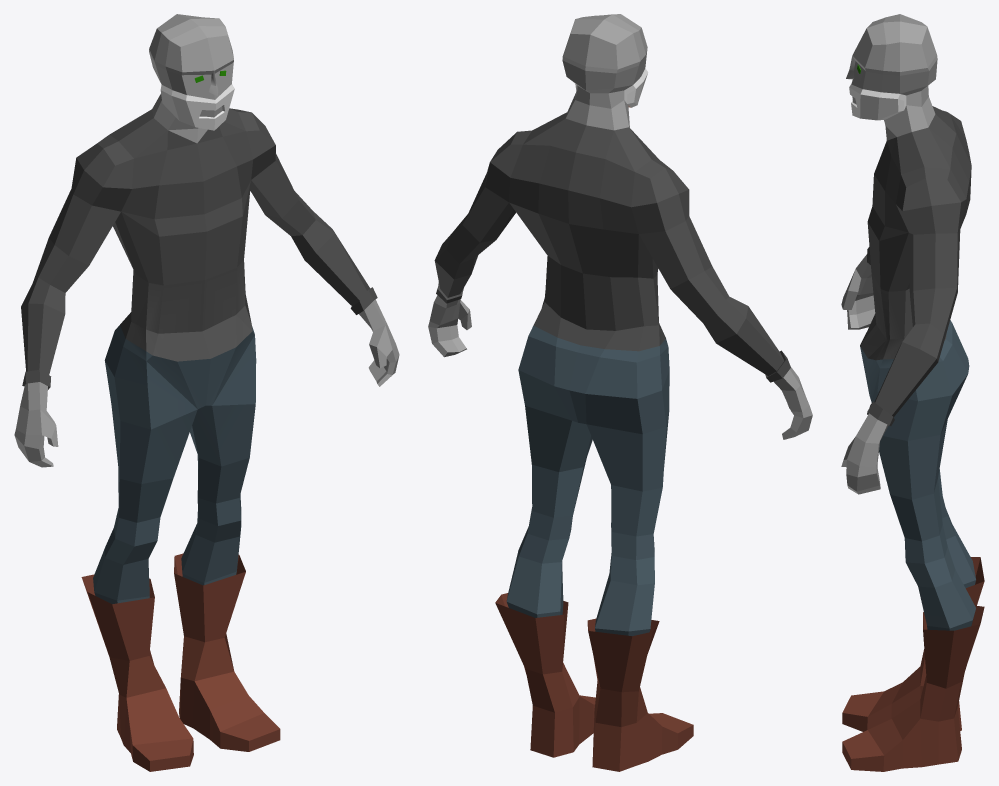
The model's file is homen_drogas_-_.fbx.
3 renders of one model, left to right at view 1: azimuth 30°, elevation 25°; view 2: azimuth 150°, elevation 25°; view 3: azimuth 270°, elevation 25°, orthographic.
Parts seen in each view (by area): view 1: man drogas; view 2: man drogas; view 3: man drogas.
Boxes of the visible parts, box(x1,y1,x2,y2) form: man drogas: box(14, 14, 399, 771); man drogas: box(428, 14, 812, 771); man drogas: box(841, 14, 984, 771).
Size of the model in its own units: 91.23 by 167 by 30.22.
